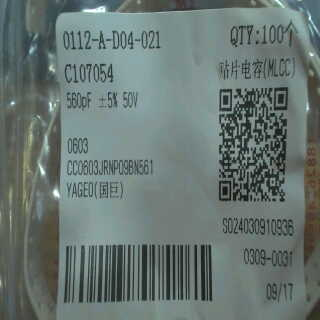560pF: (62, 85, 95, 114)
